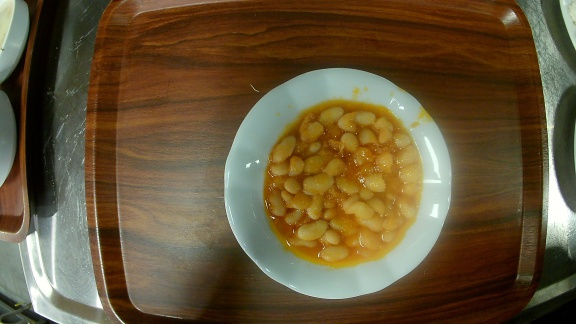kurufasulye: (221, 68, 452, 299)
